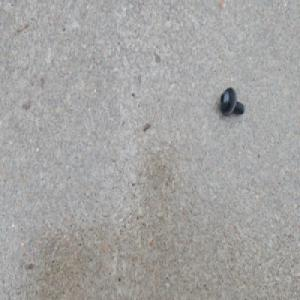BoltWasher: (218, 88, 244, 119)
